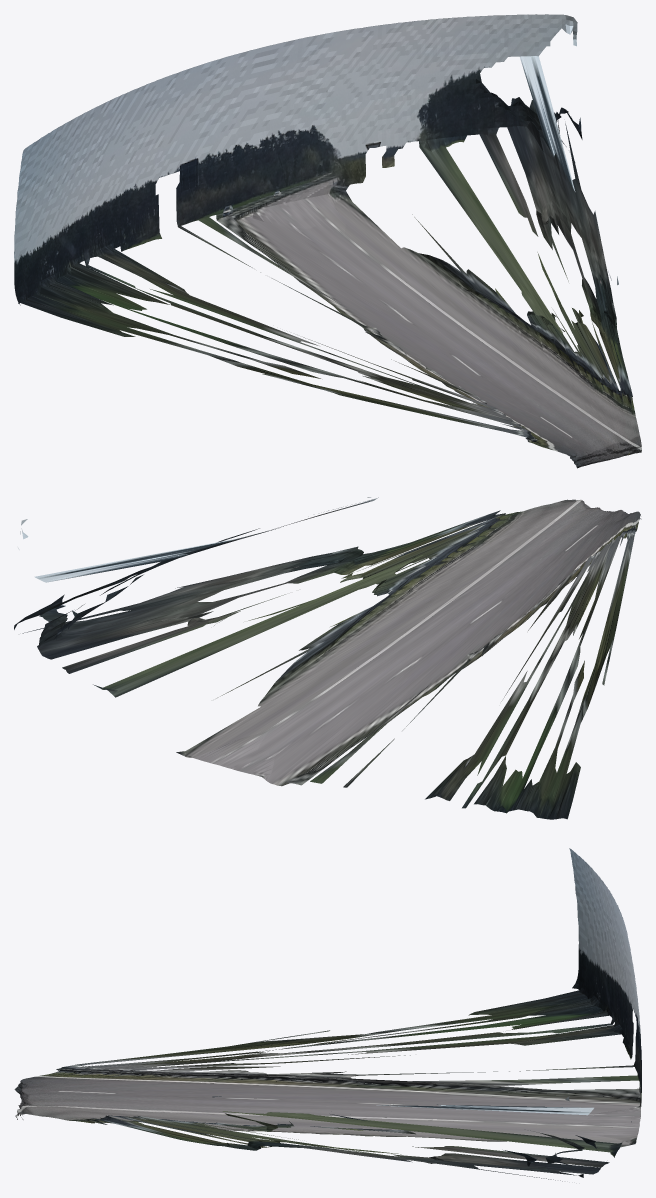
3 views of the same model, one above another, from view 1: azimuth 30°, elevation 25°; view 2: azimuth 150°, elevation 25°; view 3: azimuth 270°, elevation 25° (orthographic). The views are drawn at different scales.
Visible parts, largest first — view 1: defaultobject; view 2: defaultobject; view 3: defaultobject.
Part boxes in pixels (x1,y1,x2,y2): defaultobject: (14, 14, 641, 468); defaultobject: (14, 497, 641, 819); defaultobject: (14, 848, 641, 1181).
Size of the model in its own units: 40.86 by 12.12 by 44.54.
1 material, 1 textured.
